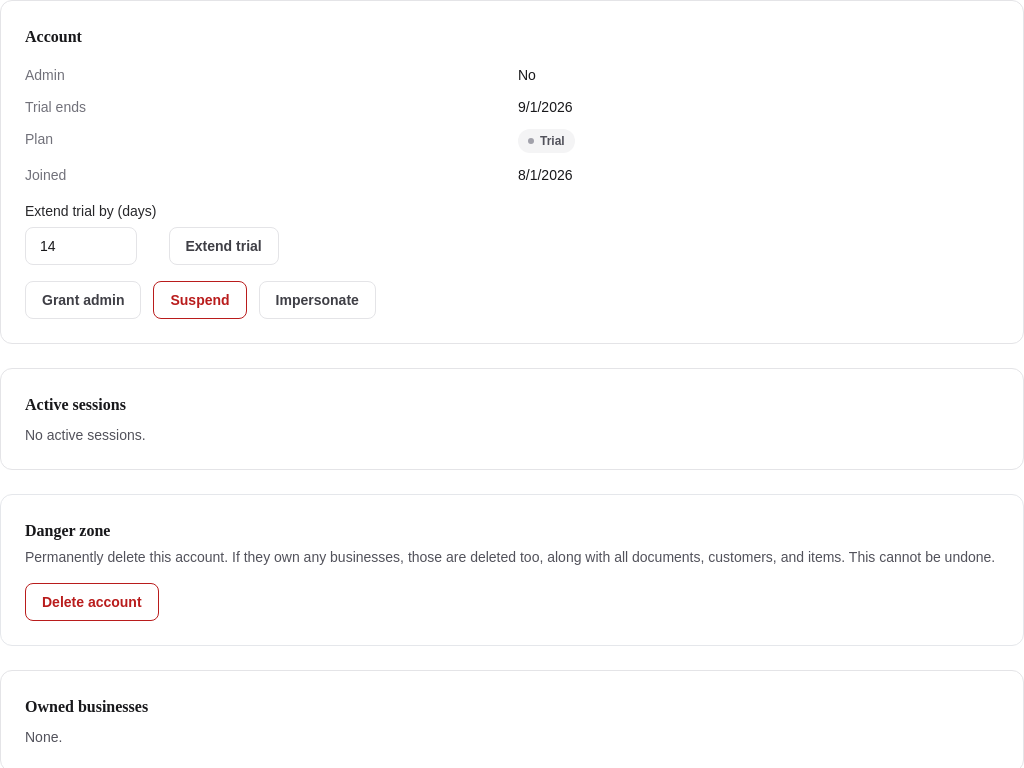
Test: AdminUserDetail › grants admin when the button is clicked
The image size is (1024, 768).
Click the button "Grant admin" at (83, 300), box [25,281,142,319]
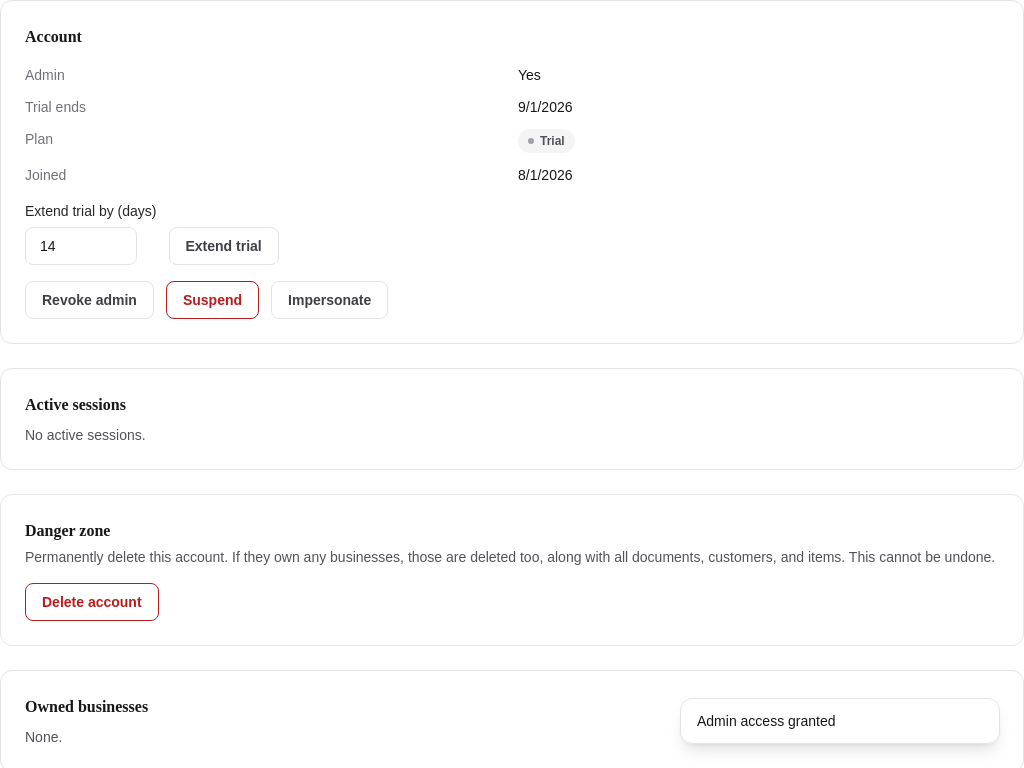
Check: the button "Revoke admin" is shown, box [25,281,154,319]
Check: the text "Admin access granted" is shown, box [697,713,836,729]
